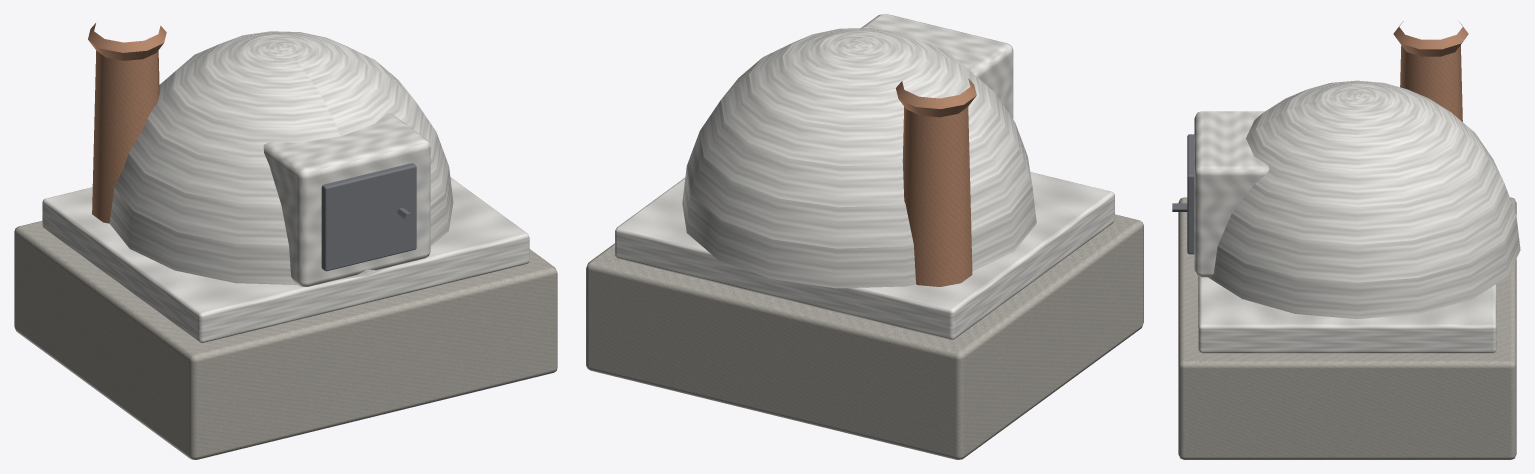
File: greek-island-village-and-harbour-village-bread-oven-45b0e3fe__37076.glb
3 renders of one model, left to right at view 1: azimuth 30°, elevation 25°; view 2: azimuth 150°, elevation 25°; view 3: azimuth 270°, elevation 25°, orthographic. The views are drawn at different scales.
Parts seen in each view (by area): view 1: village-bread-oven, door-oven; view 2: village-bread-oven; view 3: village-bread-oven, door-oven.
Boxes of the visible parts, box(x1,y1,x2,y2) form: village-bread-oven: box(14, 23, 557, 459); door-oven: box(321, 163, 416, 271); village-bread-oven: box(586, 14, 1143, 459); village-bread-oven: box(1178, 21, 1520, 459); door-oven: box(1172, 134, 1194, 254).
Size of the model in its own units: 2 by 1.66 by 1.75.
Materials: 5 (4 with a texture image).
